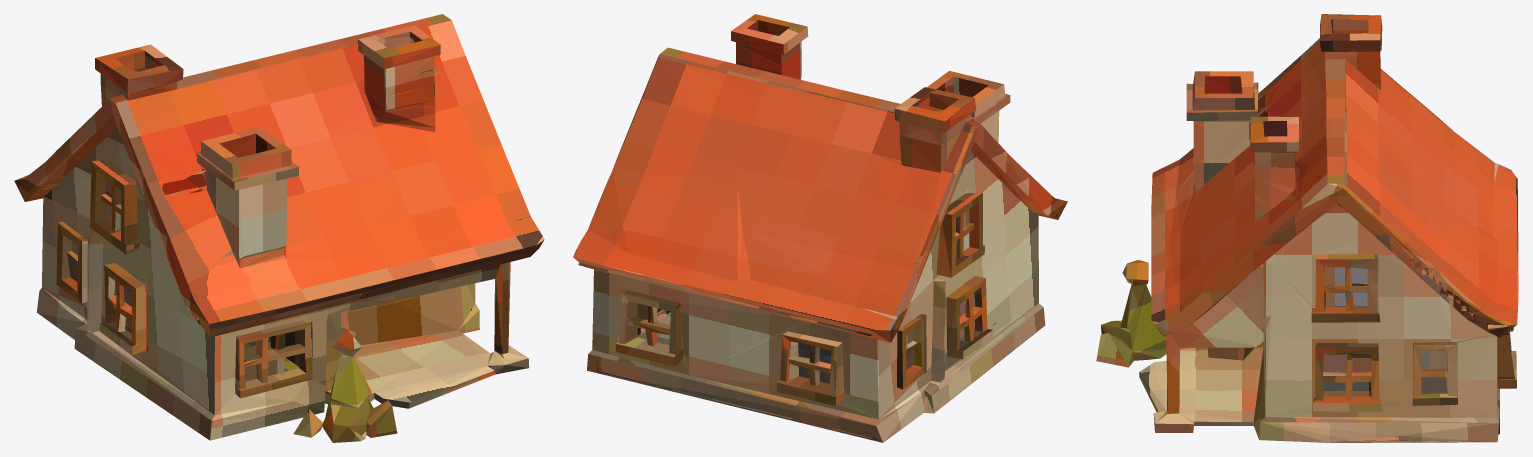
Rendered from house.glb.
3 views of the same model, side by side, from view 1: azimuth 30°, elevation 25°; view 2: azimuth 150°, elevation 25°; view 3: azimuth 270°, elevation 25° (orthographic). The views are drawn at different scales.
Parts seen in each view (by area): view 1: geometry_0; view 2: geometry_0; view 3: geometry_0.
Boxes of the visible parts, x1,y1,x2,y2 form: geometry_0: [14, 14, 544, 442]; geometry_0: [573, 14, 1067, 442]; geometry_0: [1096, 14, 1518, 442].
Size of the model in its own units: 0.8655 by 0.7344 by 0.9924.
1 material, 1 textured.
